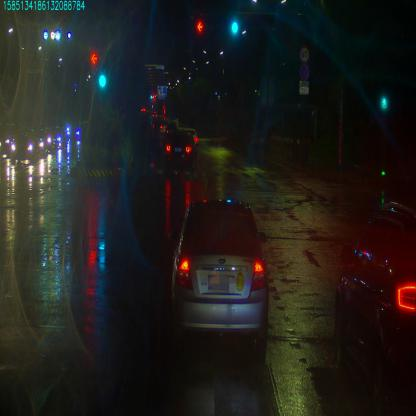traffic-light: (229, 19, 241, 36), (196, 20, 204, 32)
